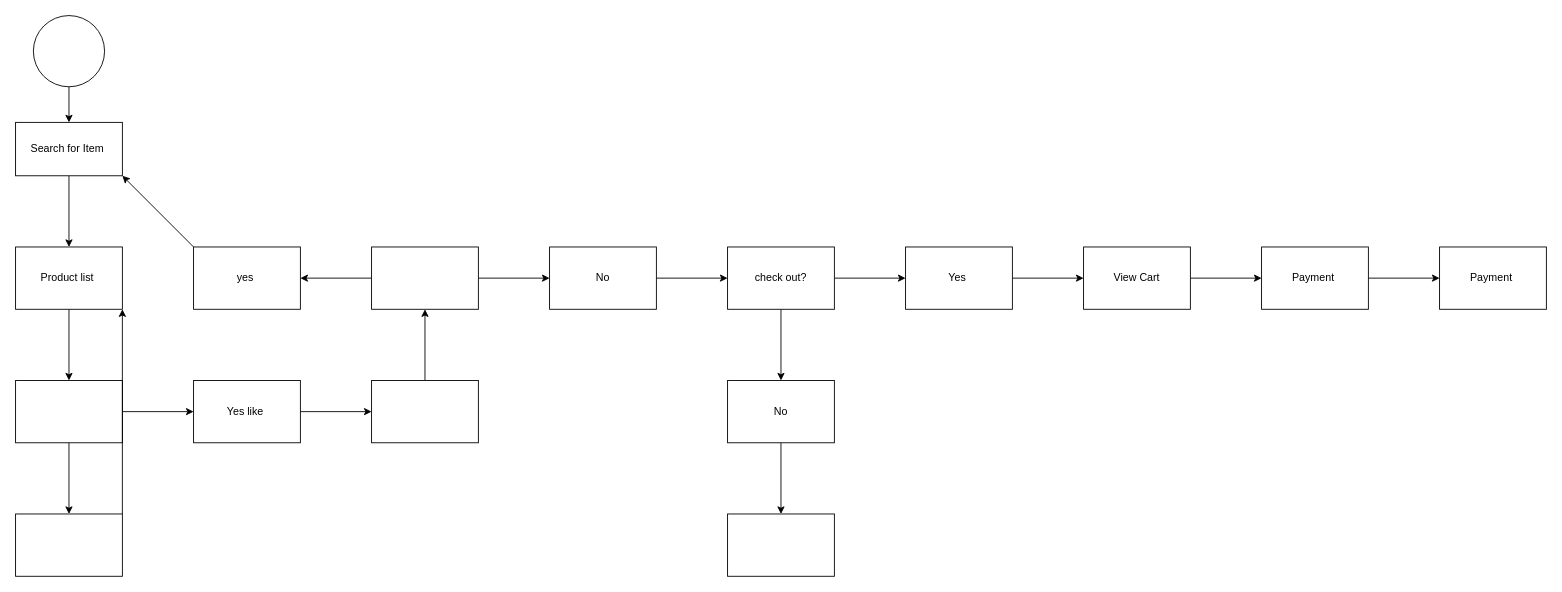
This 1562x592 diagram has some shape labels left out. Here are the shapes that lost their labels. From the top down, the centre of each, then its label:
At point 68,51: "start".
At point 424,277: "continue shopping?".
At point 68,411: "View Item".
At point 424,411: "add to cart".
At point 68,544: "No like".
At point 780,544: "Exit".
